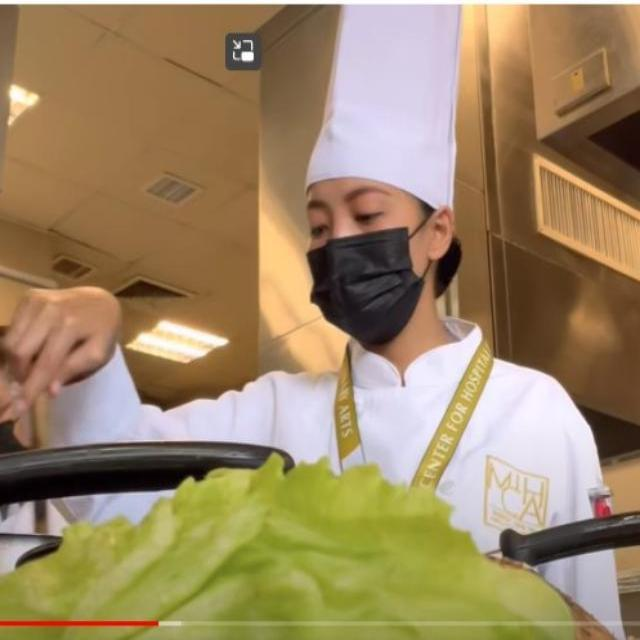bare_hand: (4, 255, 128, 415)
